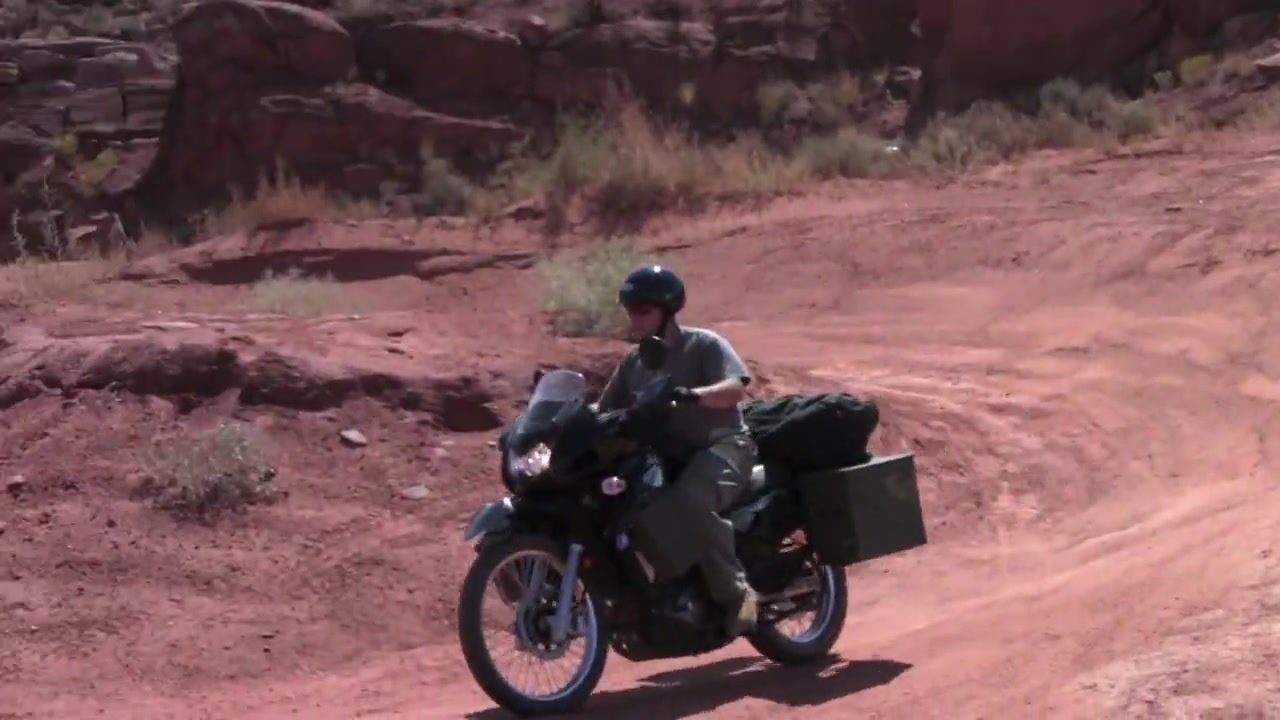motorbike: (455, 366, 931, 720)
